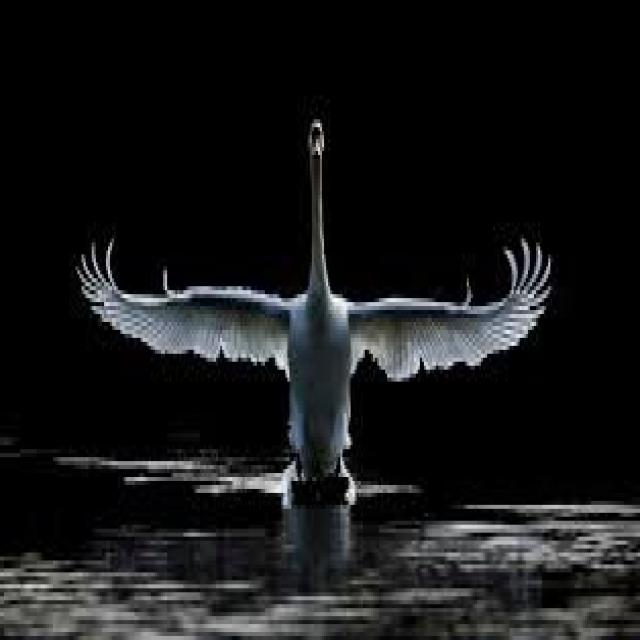swan: (77, 119, 552, 501)
